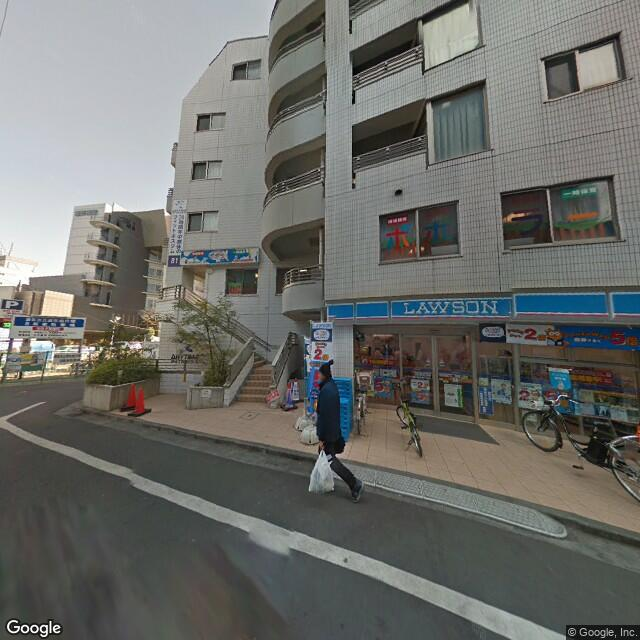lawson: (327, 285, 639, 326)
